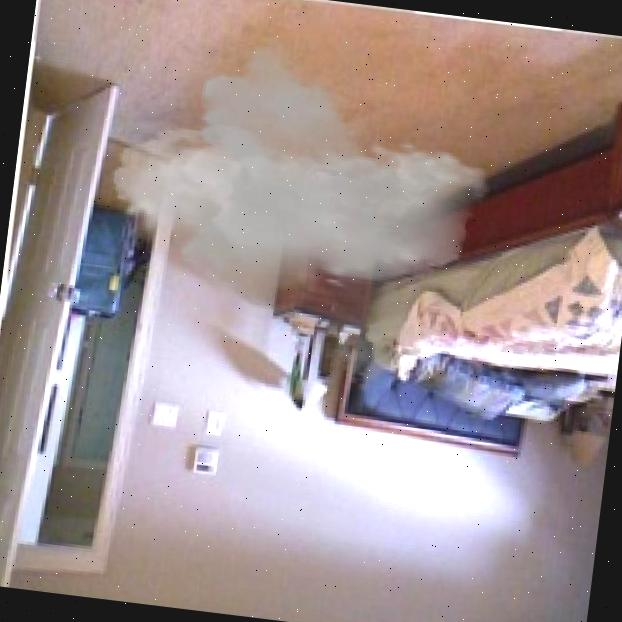smoke: (89, 18, 505, 404)
